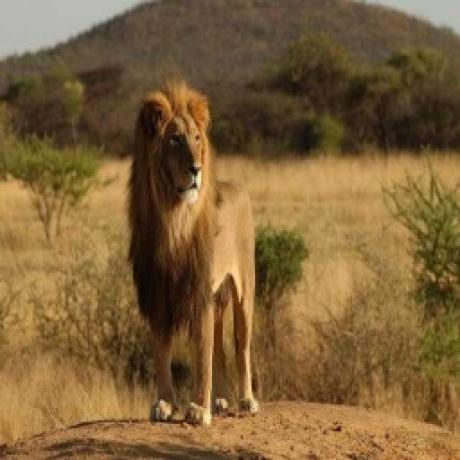Lion: (126, 74, 265, 428)
